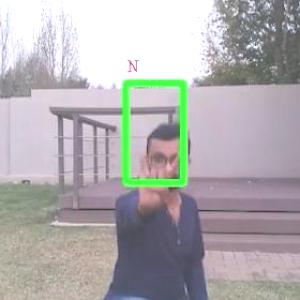takeoff-hand: (132, 152, 181, 209)
